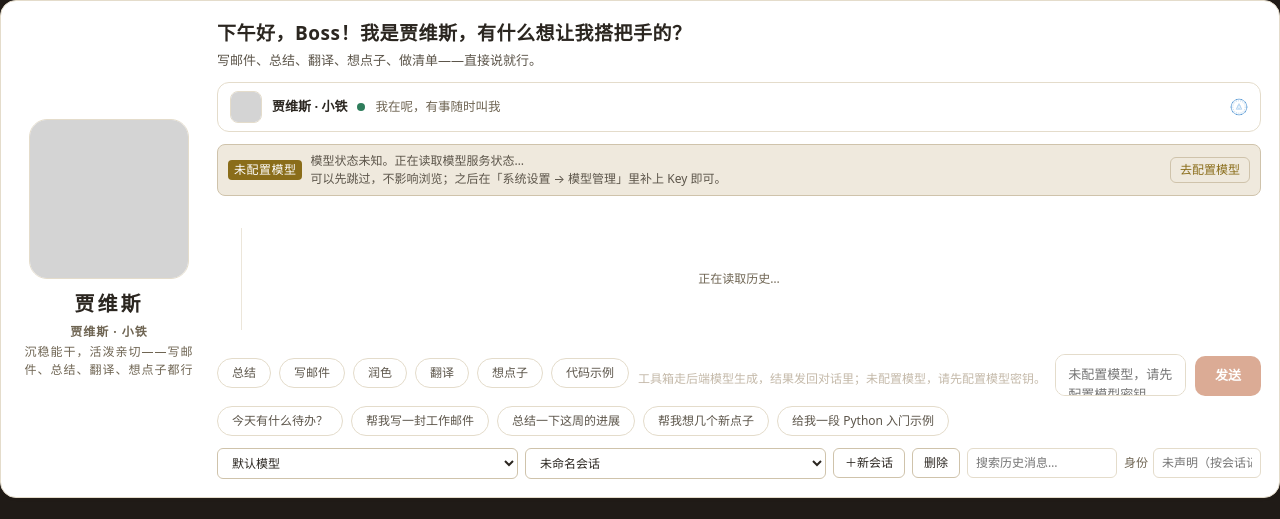
Scenario: ChatPanel 工具卡与状态行 › 工具失败：摘要用人话、默认收起，原始 JSON 仍保留在折叠区
Type "帮我设个提醒" into the text box with placeholder "未配置模型，请先配置模型密钥" at (1121, 375), box [1055,354,1186,396]
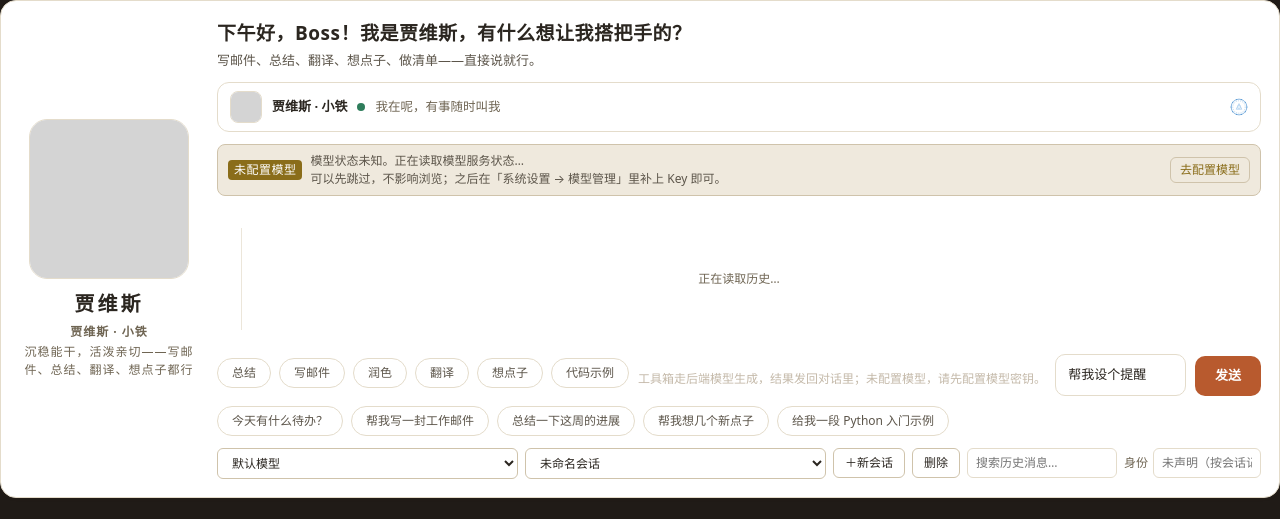
Click the button "发送" at (1228, 376), box [1195,356,1261,396]
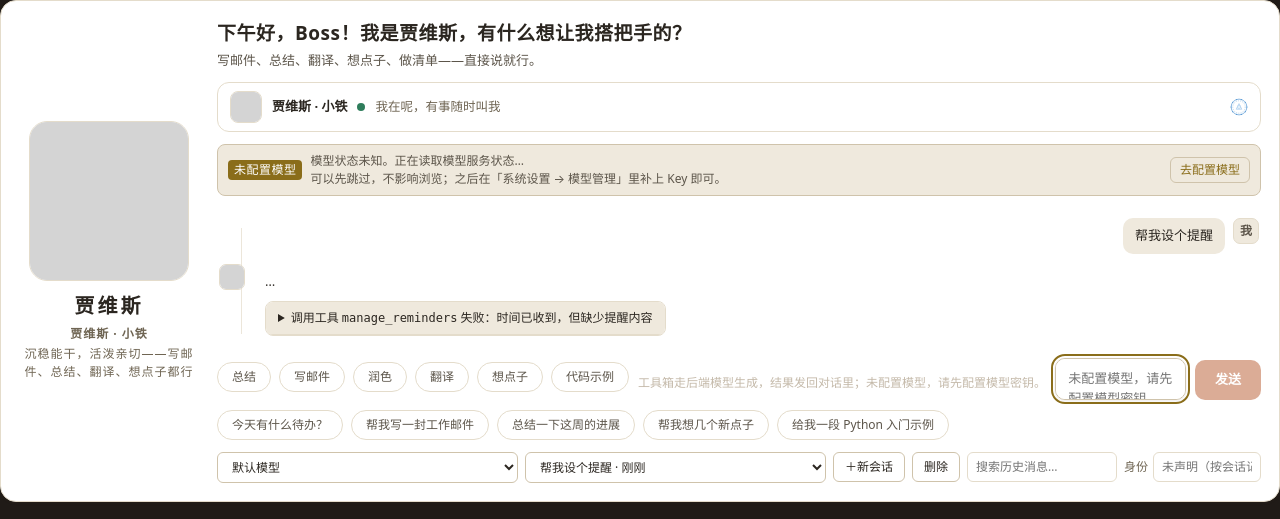
expect the heading "调用工具 manage_reminders 失败：时间已收到，但缺少提醒内容" is shown: met, box [266,302,665,335]
expect the text "调用工具 manage_reminders 失败：时间已收到，但缺少提醒内容" is shown: met, box [265,301,666,336]
